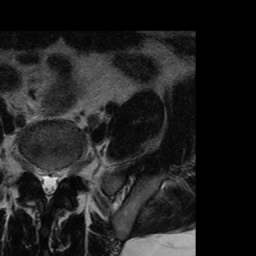CCS_normal: (44, 159, 53, 209)
LFS_normal: (61, 156, 70, 187)
LLS_normal: (53, 159, 61, 198)
RFS_normal: (28, 151, 37, 182)
RLS_normal: (37, 157, 44, 197)
